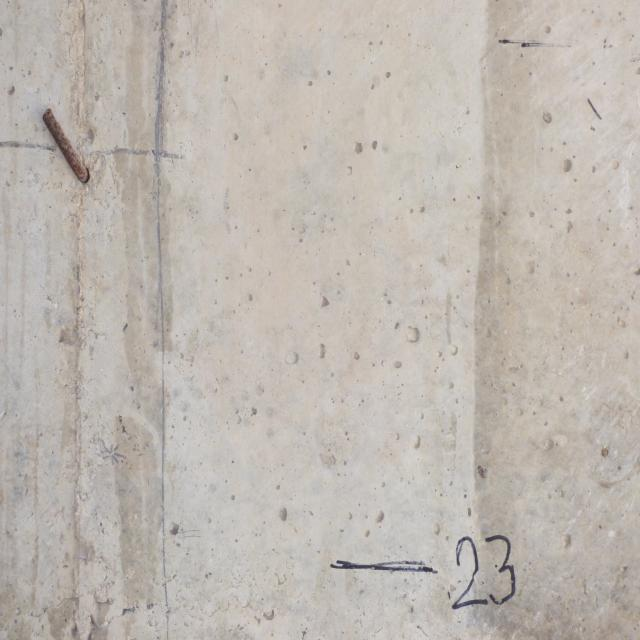corrosion: (43, 92, 100, 193)
